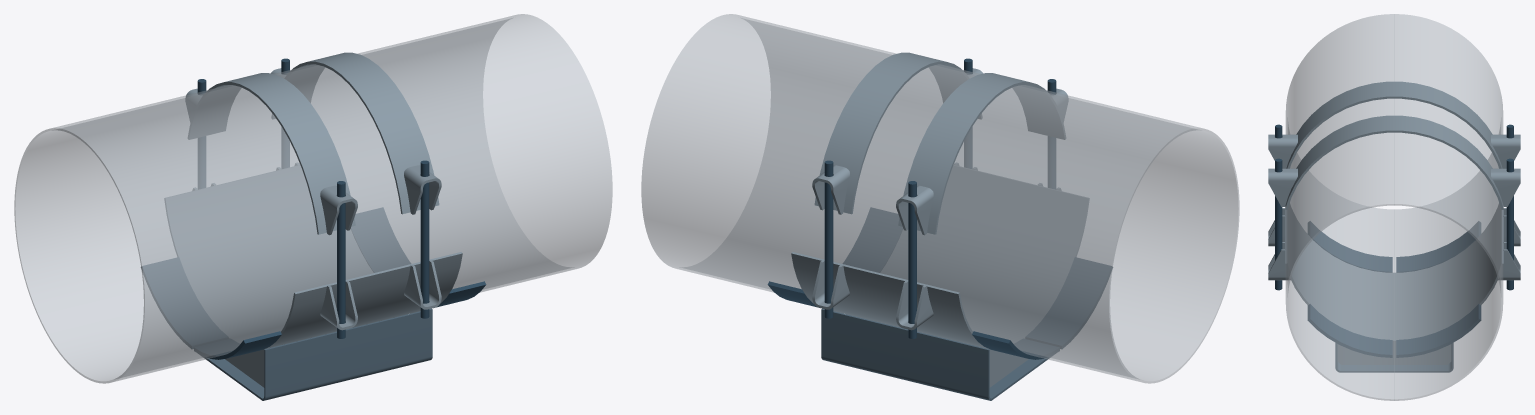
Rendered from TS-671.00.00-19-opora-dn920-H150.glb.
3 views of the same model, side by side, from view 1: azimuth 30°, elevation 25°; view 2: azimuth 150°, elevation 25°; view 3: azimuth 270°, elevation 25° (orthographic). The views are drawn at different scales.
Parts seen in each view (by area): view 1: truba, podushka_0, skoba_1, bugel_podushka_-1_0, bugel_podushka_1_0, upor_-1_1, upor_1_1, shpilka_1_-1, shpilka_-1_-1, upor_-1_-1, bugel_ushko_-1_2, bugel_ushko_1_2 (+5 smaller); view 2: truba, podushka_0, skoba_1, bugel_podushka_-1_0, bugel_podushka_1_0, upor_-1_-1, upor_1_-1, shpilka_1_1, shpilka_-1_1, upor_-1_1, bugel_ushko_-1_1, bugel_ushko_1_1 (+5 smaller); view 3: truba, podushka_0, bugel_podushka_1_0, bugel_podushka_-1_0, upor_1_1, upor_1_-1, rebro_6, upor_-1_1, upor_-1_-1, skoba_1, bugel_ushko_1_1, bugel_ushko_1_2 (+8 smaller).
Boxes of the visible parts, x1,y1,x2,y2 form: truba: [14, 14, 612, 383]; podushka_0: [164, 165, 462, 349]; skoba_1: [202, 308, 432, 400]; bugel_podushka_-1_0: [188, 73, 355, 234]; bugel_podushka_1_0: [271, 52, 439, 214]; upor_-1_1: [141, 257, 228, 348]; upor_1_1: [351, 207, 410, 272]; shpilka_1_-1: [420, 160, 429, 318]; shpilka_-1_-1: [337, 181, 345, 338]; upor_-1_-1: [194, 331, 281, 359]; bugel_ushko_-1_2: [320, 185, 357, 235]; bugel_ushko_1_2: [404, 165, 441, 214]; truba: [641, 14, 1239, 383]; podushka_0: [791, 165, 1089, 349]; skoba_1: [821, 308, 1051, 400]; bugel_podushka_-1_0: [898, 73, 1065, 234]; bugel_podushka_1_0: [814, 52, 982, 214]; upor_-1_-1: [1025, 257, 1112, 348]; upor_1_-1: [843, 207, 902, 272]; shpilka_1_1: [824, 160, 833, 318]; shpilka_-1_1: [908, 181, 916, 338]; upor_-1_1: [972, 331, 1059, 359]; bugel_ushko_-1_1: [896, 185, 933, 235]; bugel_ushko_1_1: [812, 165, 849, 214]; truba: [1285, 14, 1503, 400]; podushka_0: [1285, 204, 1503, 342]; bugel_podushka_1_0: [1285, 115, 1503, 209]; bugel_podushka_-1_0: [1286, 81, 1502, 168]; upor_1_1: [1396, 304, 1481, 357]; upor_1_-1: [1307, 304, 1392, 357]; rebro_6: [1337, 343, 1451, 364]; upor_-1_1: [1396, 221, 1480, 272]; upor_-1_-1: [1308, 221, 1392, 272]; skoba_1: [1335, 343, 1453, 372]; bugel_ushko_1_1: [1491, 168, 1520, 206]; bugel_ushko_1_2: [1268, 168, 1297, 206].
Bounding box in the file's own units: 1900 × 1086 × 1066.
